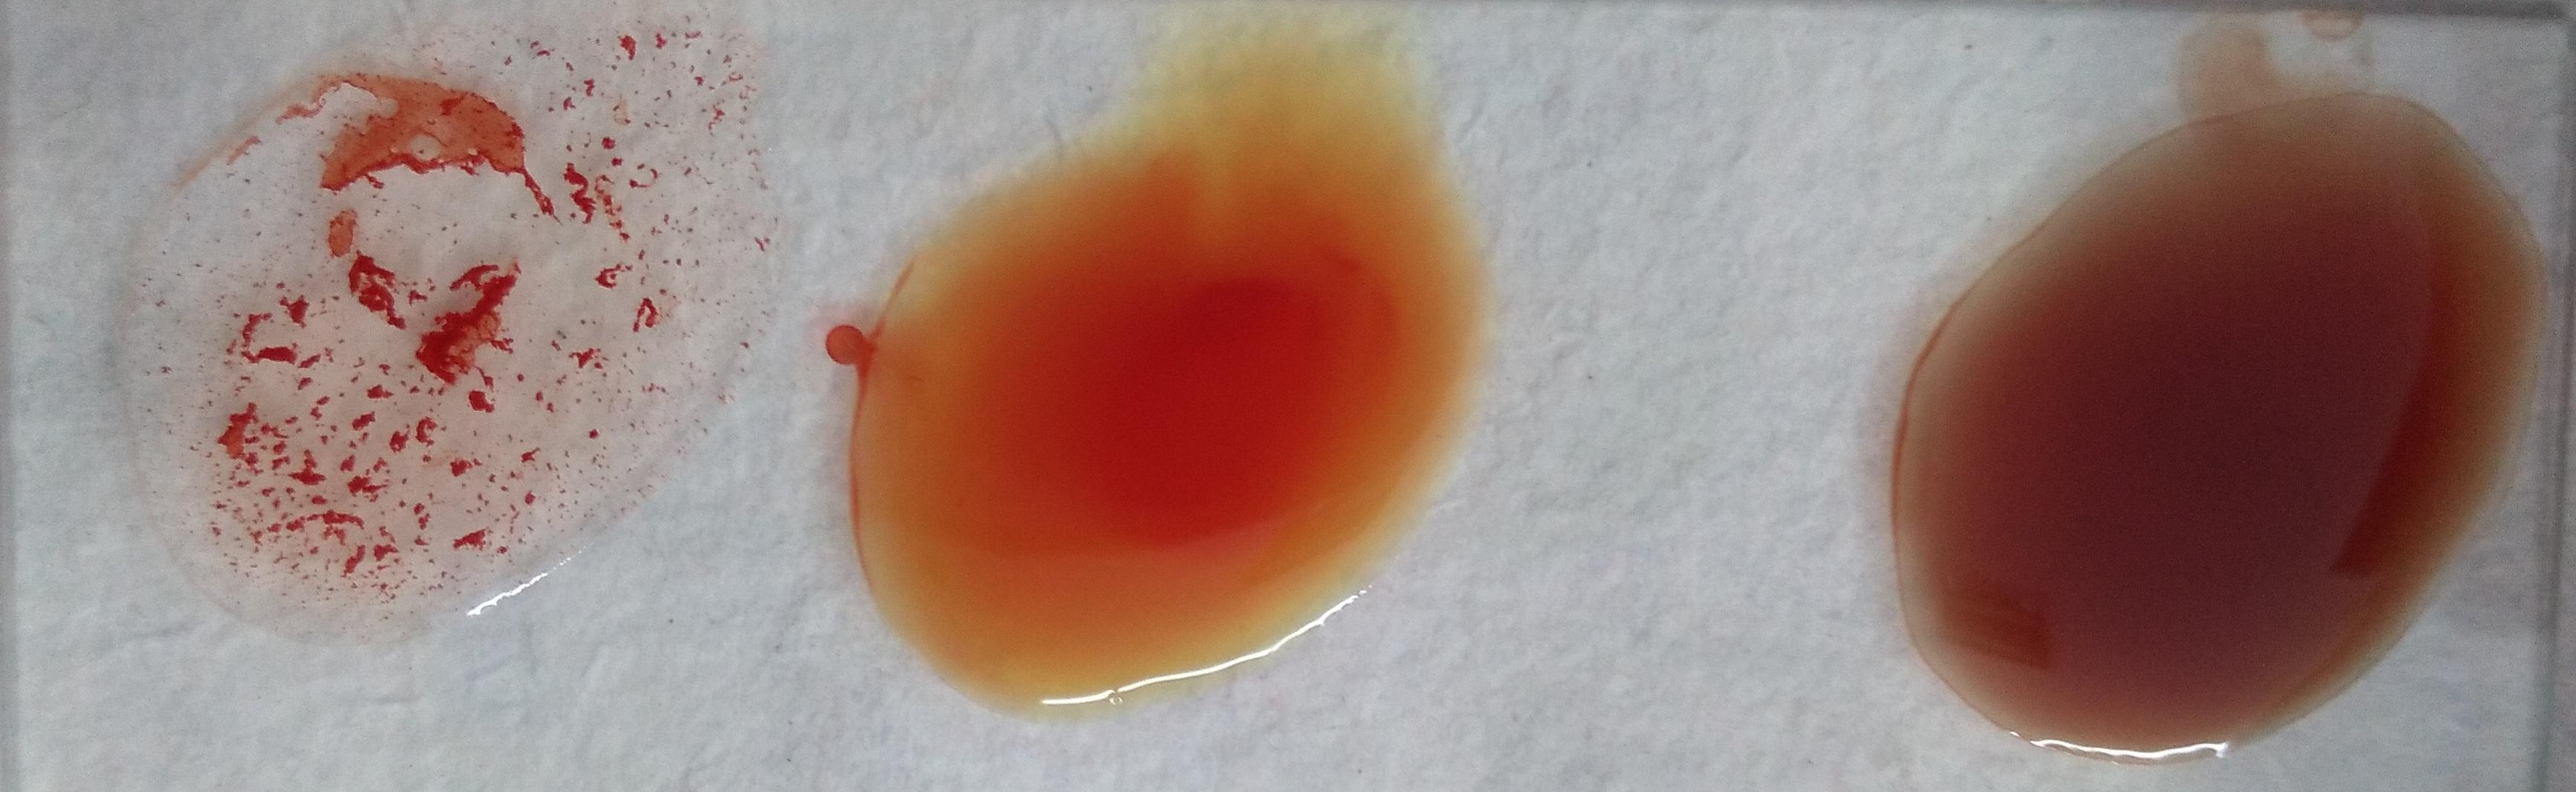D: (117, 30, 733, 615)
